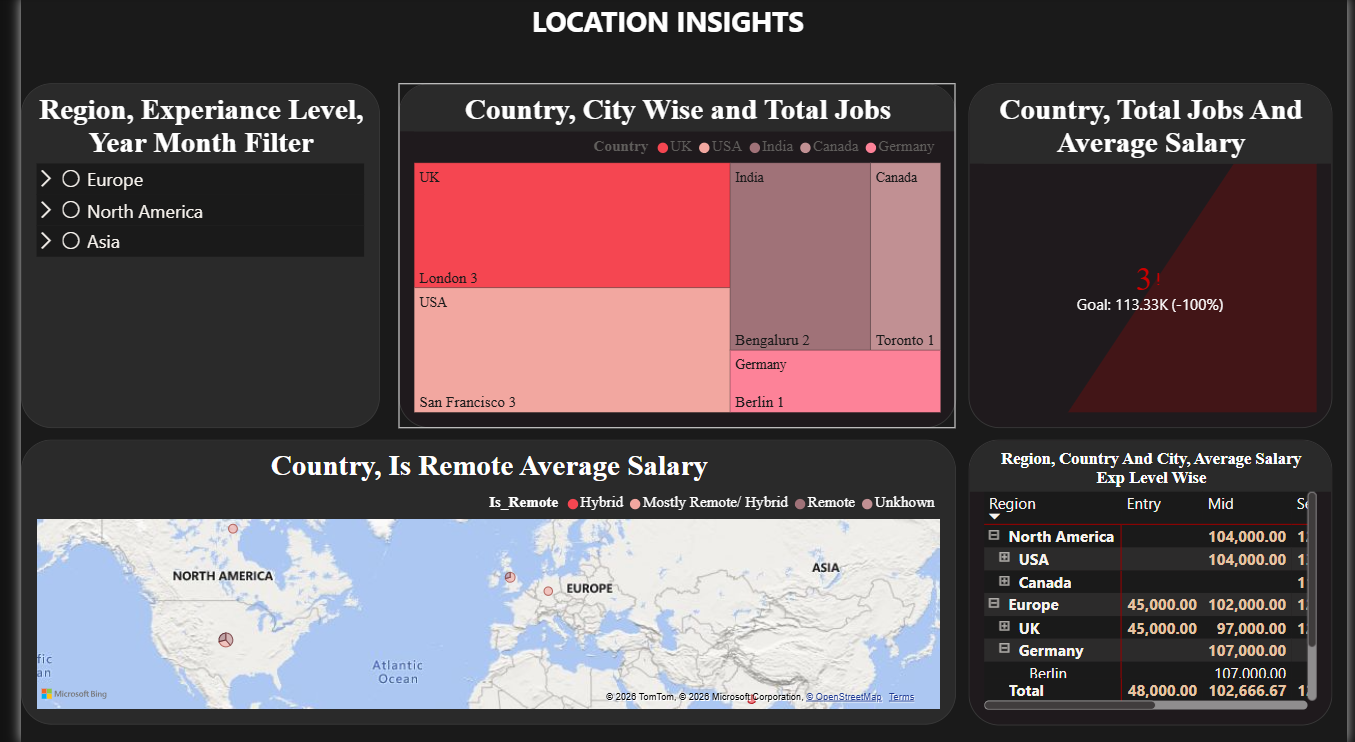

The page's visual inventory and layout, read from the dashboard file:
{"tool":"powerbi","page":{"name":"Location Insights","canvas":[1280,720],"ordinal":1},"visuals":[{"type":"listSlicer","title":"Region, Experiance Level, Year Month Filter","fields":{"Values":["Dim_Locations.Region","Fact_Jobs.Experience_Level","Dim_Date.YearMonth"]},"box":[0,83.2,346.2,333],"z":0},{"type":"textbox","box":[451.2,0,346.2,70],"z":1000},{"type":"map","title":"Country, Is Remote Average Salary","fields":{"Category":["Dim_Locations.Country"],"Size":["Fact_Jobs.AvgSalaryByCountry"],"Series":["Fact_Jobs.Is_Remote"]},"box":[0,427.1,902.4,275.1],"z":2000},{"type":"kpi","title":"Country, Total Jobs And Average Salary","fields":{"Goal":["Fact_Jobs.AvgSalaryByCountry"],"Indicator":["Fact_Jobs.Totaljobs"],"TrendLine":["Dim_Locations.Country"]},"box":[914.5,83.2,351.1,333],"z":3000},{"type":"treemap","title":"Country, City Wise and Total Jobs","fields":{"Group":["Dim_Locations.Country"],"Details":["Dim_Locations.City"],"Values":["Fact_Jobs.Totaljobs"]},"box":[364.3,83.2,538.1,333],"z":4000},{"type":"pivotTable","title":"Region, Country And City, Average Salary Exp Level Wise","fields":{"Values":["Fact_Jobs.AvgSalaryByCountry"],"Rows":["Dim_Locations.Region","Dim_Locations.Country","Dim_Locations.City"],"Columns":["Fact_Jobs.Experience_Level"]},"box":[914.5,427.1,351.1,276.3],"z":5000}]}

Visuals, with their boxes in screenshot pixels (x1, y1, x2, y2), scaled from the page's 1280x720 canvas onto the 1355x742 screenshot:
"Region, Experiance Level, Year Month Filter" listSlicer: <box>0,86,366,429</box>
textbox: <box>478,0,844,72</box>
"Country, Is Remote Average Salary" map: <box>0,440,955,724</box>
"Country, Total Jobs And Average Salary" kpi: <box>968,86,1340,429</box>
"Country, City Wise and Total Jobs" treemap: <box>386,86,955,429</box>
"Region, Country And City, Average Salary Exp Level Wise" pivotTable: <box>968,440,1340,725</box>
